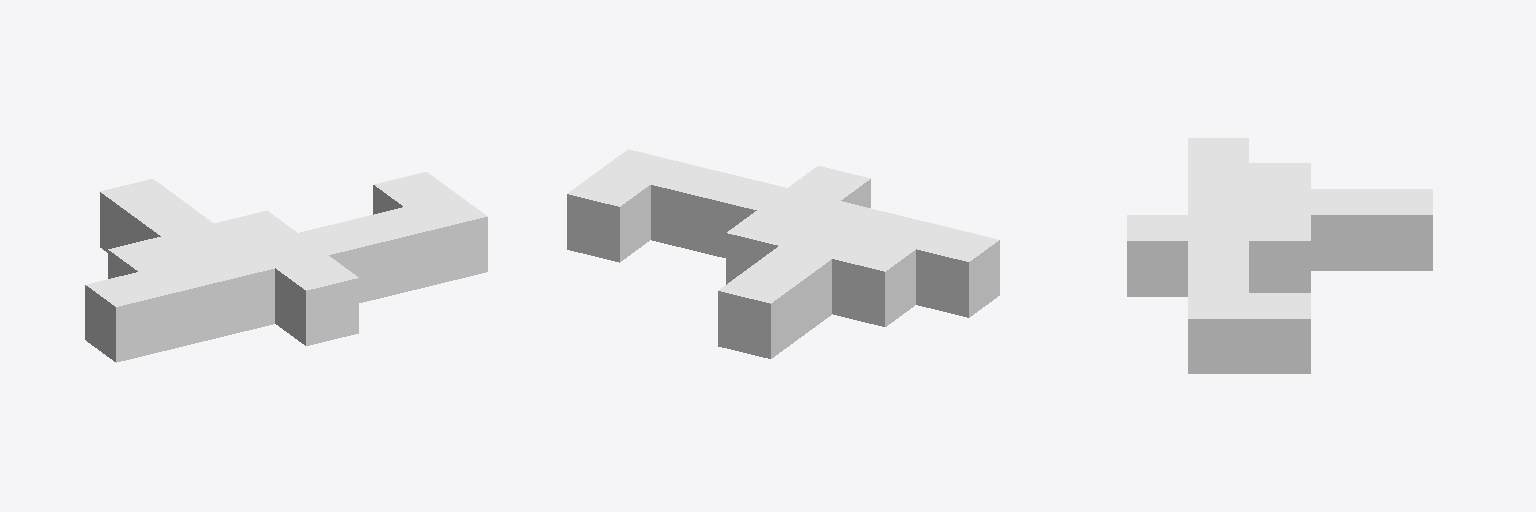
File: Enemy2-0.obj
The picture shows the model from 3 angles: view 1: azimuth 30°, elevation 25°; view 2: azimuth 150°, elevation 25°; view 3: azimuth 270°, elevation 25°; orthographic projection.
Visible parts, largest first — view 1: object 1; view 2: object 1; view 3: object 1.
Part boxes in pixels (left/top/right/bottom): object 1: left=85, top=172, right=487, bottom=362; object 1: left=567, top=149, right=999, bottom=358; object 1: left=1127, top=138, right=1432, bottom=373.
Bounding box in the file's own units: 0.7 × 0.1 × 0.5.